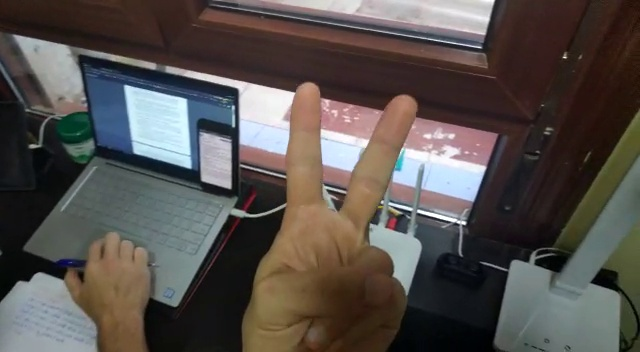Peace: (249, 73, 415, 352)
